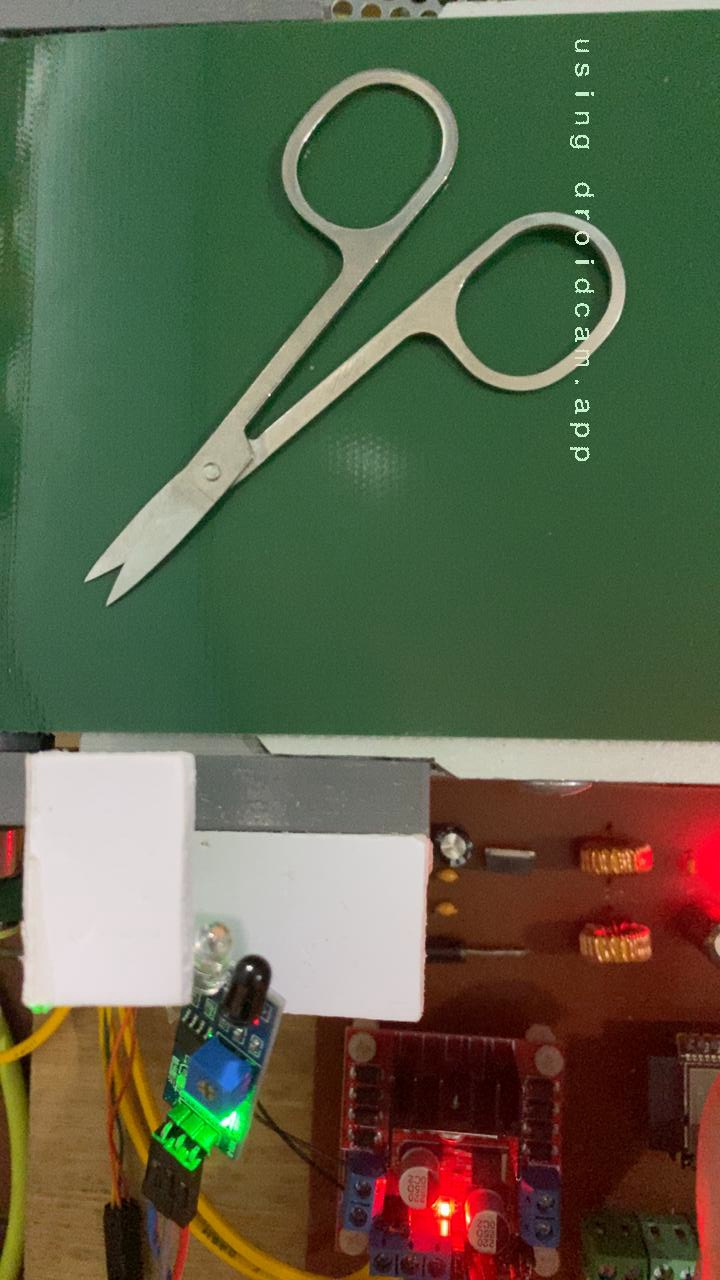scissor: (79, 64, 634, 612)
